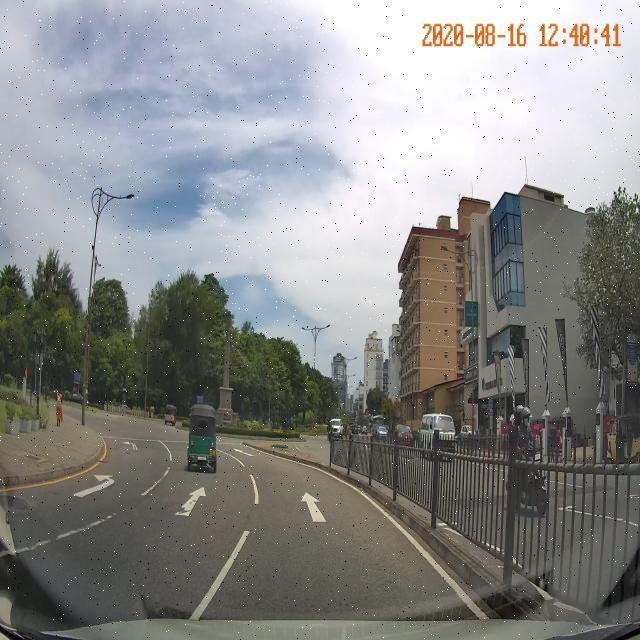forward: (247, 488, 393, 528)
